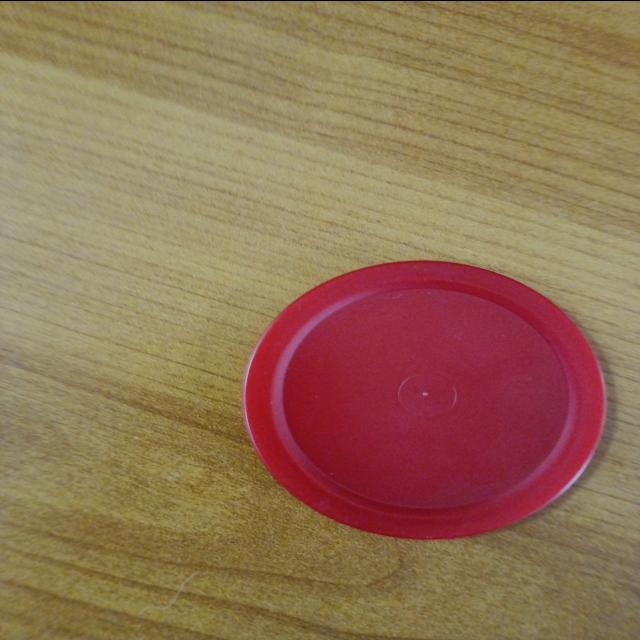chip: (242, 265, 608, 545), (394, 372, 458, 418)
